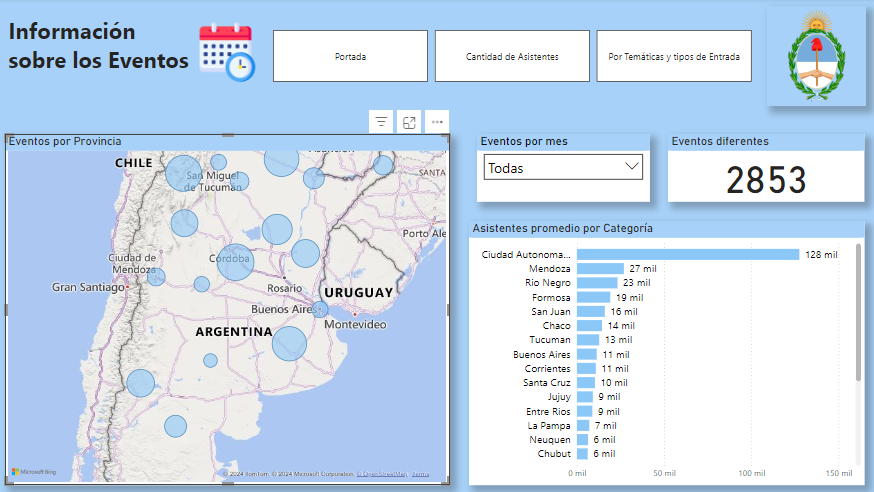

What the dashboard file says about the page in this screenshot:
{"tool":"powerbi","page":{"name":"Información sobre los Eventos","canvas":[1280,720],"ordinal":2},"visuals":[{"type":"barChart","title":"Asistentes promedio por Categoría","fields":{"Category":["Ubicacion.Provincia "],"Y":["_DAX.Asistentes promedio por Categoría"]},"box":[682.2,322.2,572,382.4],"z":0},{"type":"slicer","title":"Eventos por mes","fields":{"Values":["Fecha.Mes de realizacion"]},"box":[694.3,196.4,249.8,98.2],"z":1000},{"type":"card","title":"Eventos diferentes","fields":{"Values":["_DAX.Eventos diferentes"]},"box":[969.9,196.4,284.3,98.2],"z":2000},{"type":"map","title":"Eventos por Provincia ","fields":{"Category":["Ubicacion.Provincia "],"Size":["_DAX.Eventos por Provincia"]},"box":[11.9,196.4,643.4,507.9],"z":3000},{"type":"image","box":[1112.9,12.1,143,144.7],"z":4000},{"type":"textbox","box":[12.1,19,280.8,108.5],"z":5000},{"type":"image","box":[182.6,31,301.5,96.5],"z":6000},{"type":"pageNavigator","box":[399,46.3,694,75.2],"z":7000}]}

Visuals, with their boxes in screenshot pixels (x1, y1, x2, y2), scaled from the page's 1280x720 canvas onto the 874x492 screenshot:
"Asistentes promedio por Categoría" barChart: (x1=466, y1=220, x2=856, y2=481)
"Eventos por mes" slicer: (x1=474, y1=134, x2=645, y2=201)
"Eventos diferentes" card: (x1=662, y1=134, x2=856, y2=201)
"Eventos por Provincia " map: (x1=8, y1=134, x2=447, y2=481)
image: (x1=760, y1=8, x2=858, y2=107)
textbox: (x1=8, y1=13, x2=200, y2=87)
image: (x1=125, y1=21, x2=331, y2=87)
pageNavigator: (x1=272, y1=32, x2=746, y2=83)
